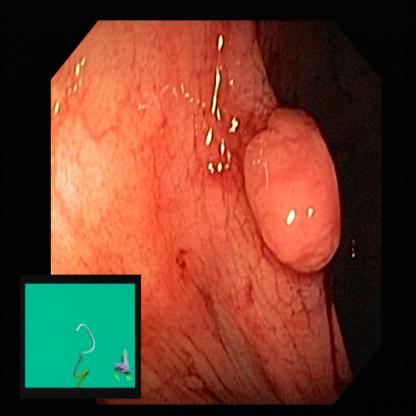Labels: (22, 275, 141, 398)
Polyps: (239, 104, 349, 278)
